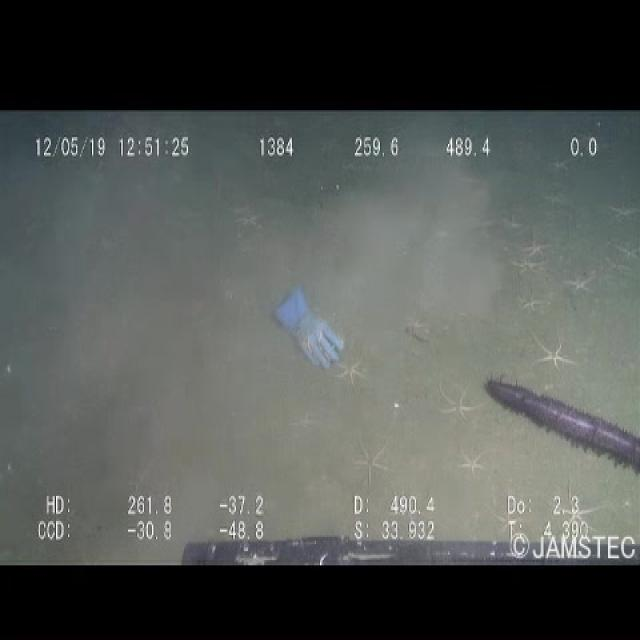plastic: (268, 277, 347, 377)
